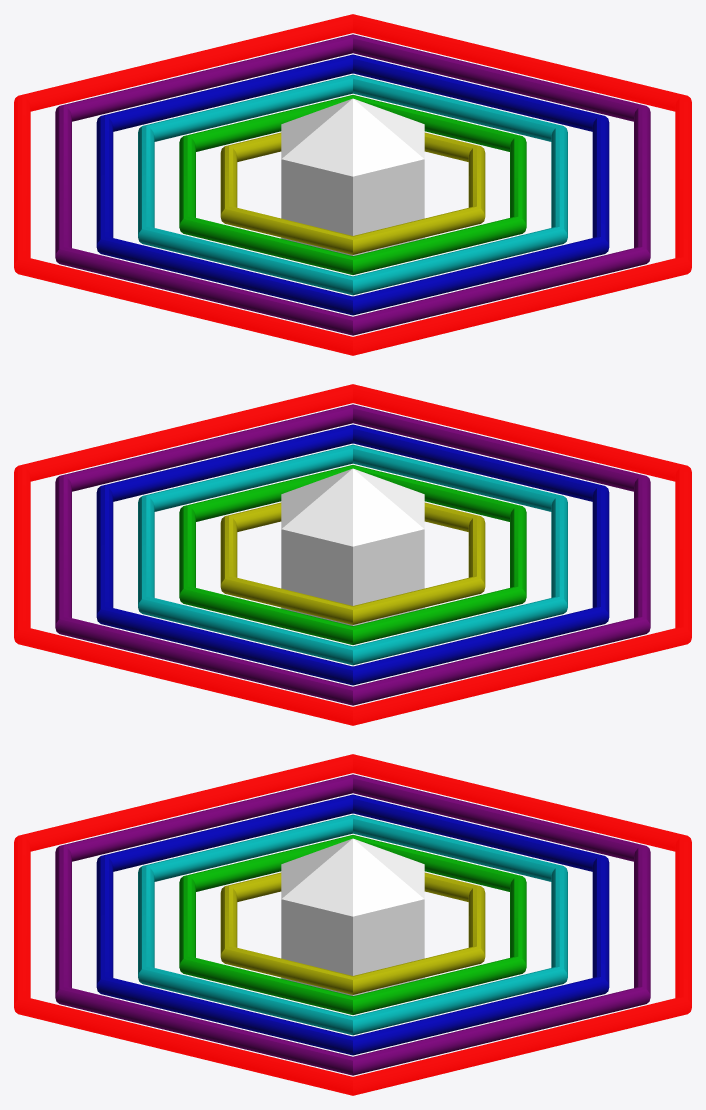
Rendered from Monument.glb.
3 renders of one model, top to bottom at view 1: azimuth 30°, elevation 25°; view 2: azimuth 150°, elevation 25°; view 3: azimuth 270°, elevation 25°, orthographic.
Parts seen in each view (by area): view 1: Monument_Ring_6, Monument_Ring_5, Monument_Ring_4, Monument_Ring_3, Monument_Sphere, Monument_Ring_2, Monument_Ring_1; view 2: Monument_Ring_6, Monument_Ring_5, Monument_Ring_4, Monument_Ring_3, Monument_Sphere, Monument_Ring_2, Monument_Ring_1; view 3: Monument_Ring_6, Monument_Ring_5, Monument_Ring_4, Monument_Ring_3, Monument_Sphere, Monument_Ring_2, Monument_Ring_1.
Part boxes in pixels (x1,y1,x2,y2): Monument_Ring_6: (14, 14, 691, 355); Monument_Ring_5: (55, 34, 650, 335); Monument_Ring_4: (96, 54, 609, 315); Monument_Ring_3: (138, 74, 567, 295); Monument_Sphere: (281, 98, 424, 255); Monument_Ring_2: (179, 95, 526, 274); Monument_Ring_1: (220, 132, 485, 254); Monument_Ring_6: (14, 384, 691, 725); Monument_Ring_5: (55, 404, 650, 705); Monument_Ring_4: (96, 424, 609, 685); Monument_Ring_3: (138, 444, 567, 665); Monument_Sphere: (281, 468, 424, 625); Monument_Ring_2: (179, 465, 526, 644); Monument_Ring_1: (220, 502, 485, 624); Monument_Ring_6: (14, 754, 691, 1095); Monument_Ring_5: (55, 774, 650, 1075); Monument_Ring_4: (96, 794, 609, 1055); Monument_Ring_3: (138, 814, 567, 1035); Monument_Sphere: (281, 838, 424, 995); Monument_Ring_2: (179, 835, 526, 1014); Monument_Ring_1: (220, 872, 485, 994).
Size of the model in its own units: 8.2 by 2 by 7.1.
